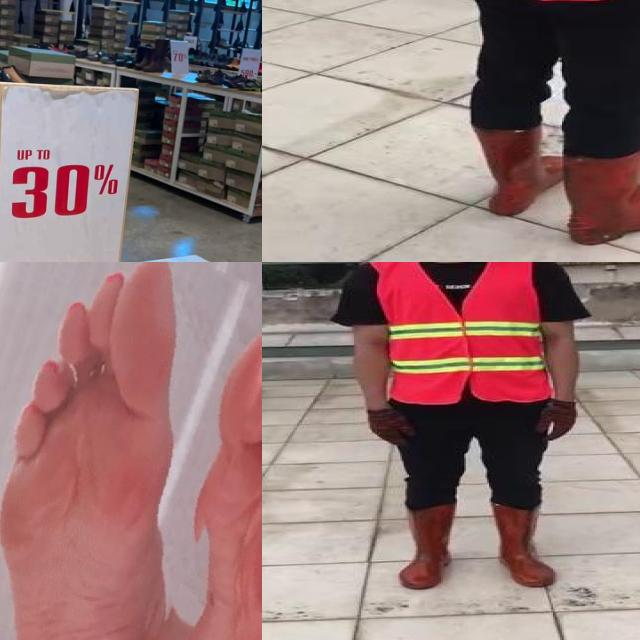Barefoots: (0, 262, 187, 640), (170, 338, 262, 640)
boots: (470, 121, 560, 215), (564, 140, 640, 246), (491, 500, 556, 588), (396, 506, 461, 588)
hand_glove: (366, 409, 414, 448), (537, 401, 576, 441)
person: (333, 262, 600, 595), (403, 0, 640, 256)
vest: (379, 262, 546, 404)
